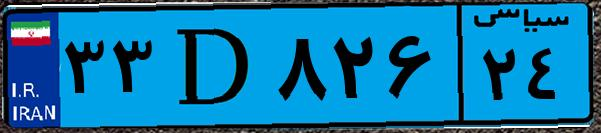2: (330, 28, 385, 110), (475, 38, 525, 113)
3: (57, 26, 110, 100), (110, 28, 158, 98)
4: (525, 38, 570, 115)
6: (385, 28, 445, 110)
8: (270, 28, 330, 110)
D: (158, 12, 270, 120)
